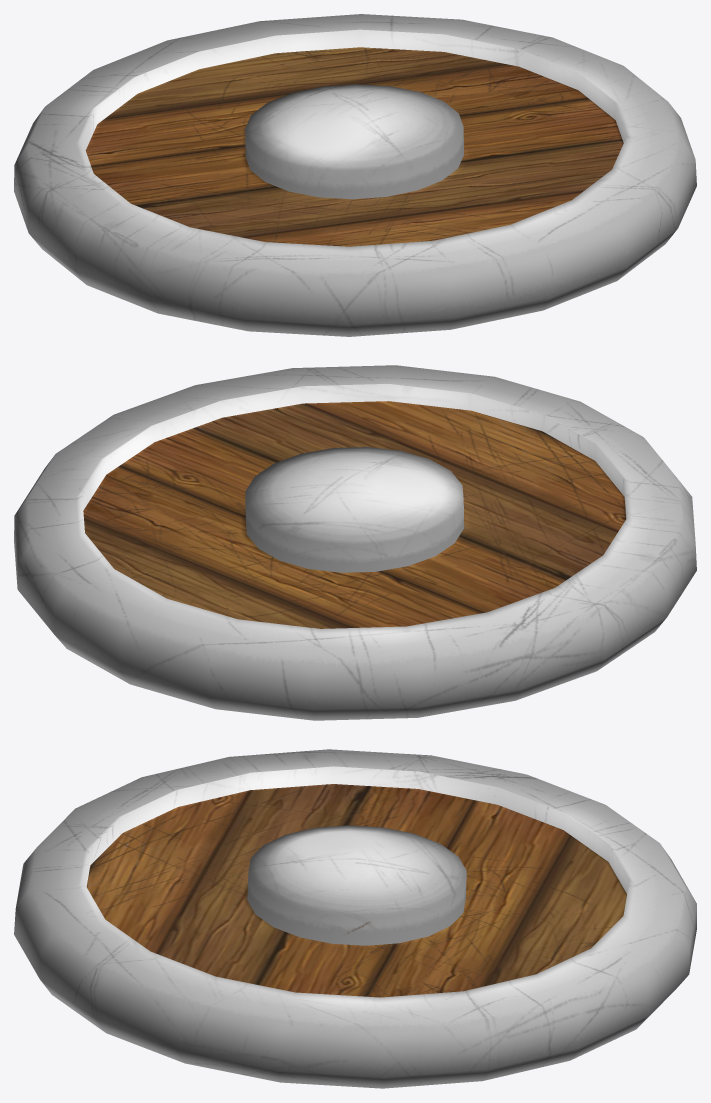
The model's file is Bouclier_Mesh.FBX.
3 renders of one model, top to bottom at view 1: azimuth 30°, elevation 25°; view 2: azimuth 150°, elevation 25°; view 3: azimuth 270°, elevation 25°, orthographic.
Parts seen in each view (by area): view 1: Object001; view 2: Object001; view 3: Object001.
Boxes of the visible parts, x1=… form: Object001: x1=14, y1=14, x2=696, y2=336; Object001: x1=14, y1=365, x2=696, y2=720; Object001: x1=14, y1=749, x2=696, y2=1088.
Size of the model in its own units: 55.15 by 9.26 by 55.13.
